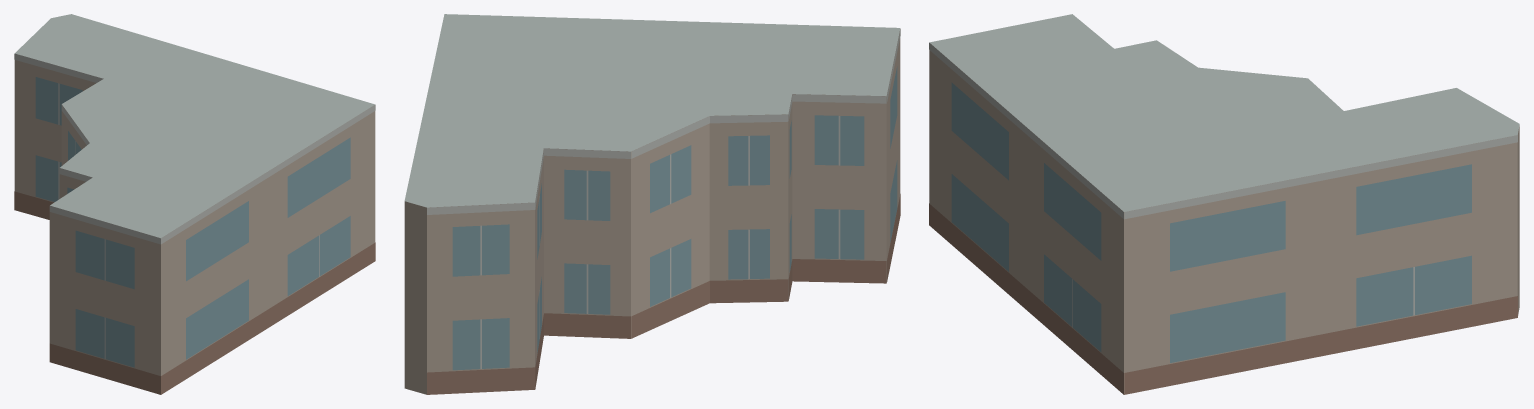
File: survey-upis-32692393.glb
3 views of the same model, side by side, from view 1: azimuth 30°, elevation 25°; view 2: azimuth 150°, elevation 25°; view 3: azimuth 270°, elevation 25° (orthographic). The views are drawn at different scales.
Parts seen in each view (by area): view 1: survey-upis-32692393.tmp; view 2: survey-upis-32692393.tmp; view 3: survey-upis-32692393.tmp.
Part boxes in pixels (x1,y1,x2,y2): survey-upis-32692393.tmp: (14, 14, 375, 394); survey-upis-32692393.tmp: (404, 14, 900, 394); survey-upis-32692393.tmp: (929, 14, 1519, 394).
Size of the model in its own units: 14.18 by 6.1 by 17.87.
